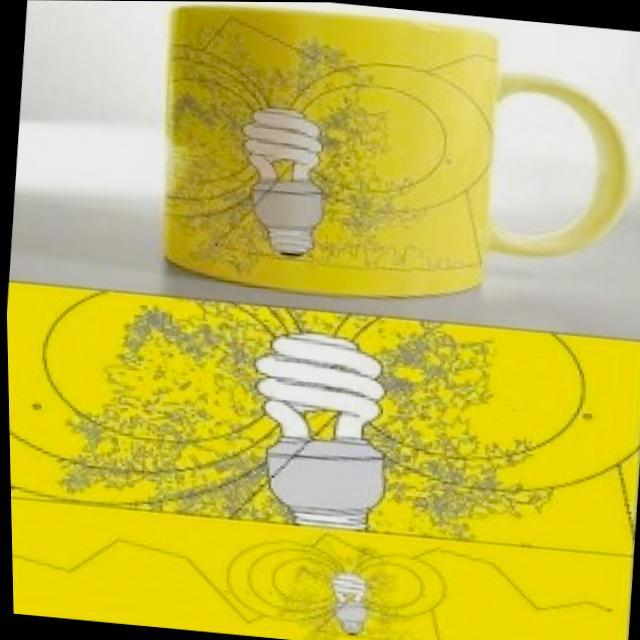cup: (78, 6, 610, 340)
